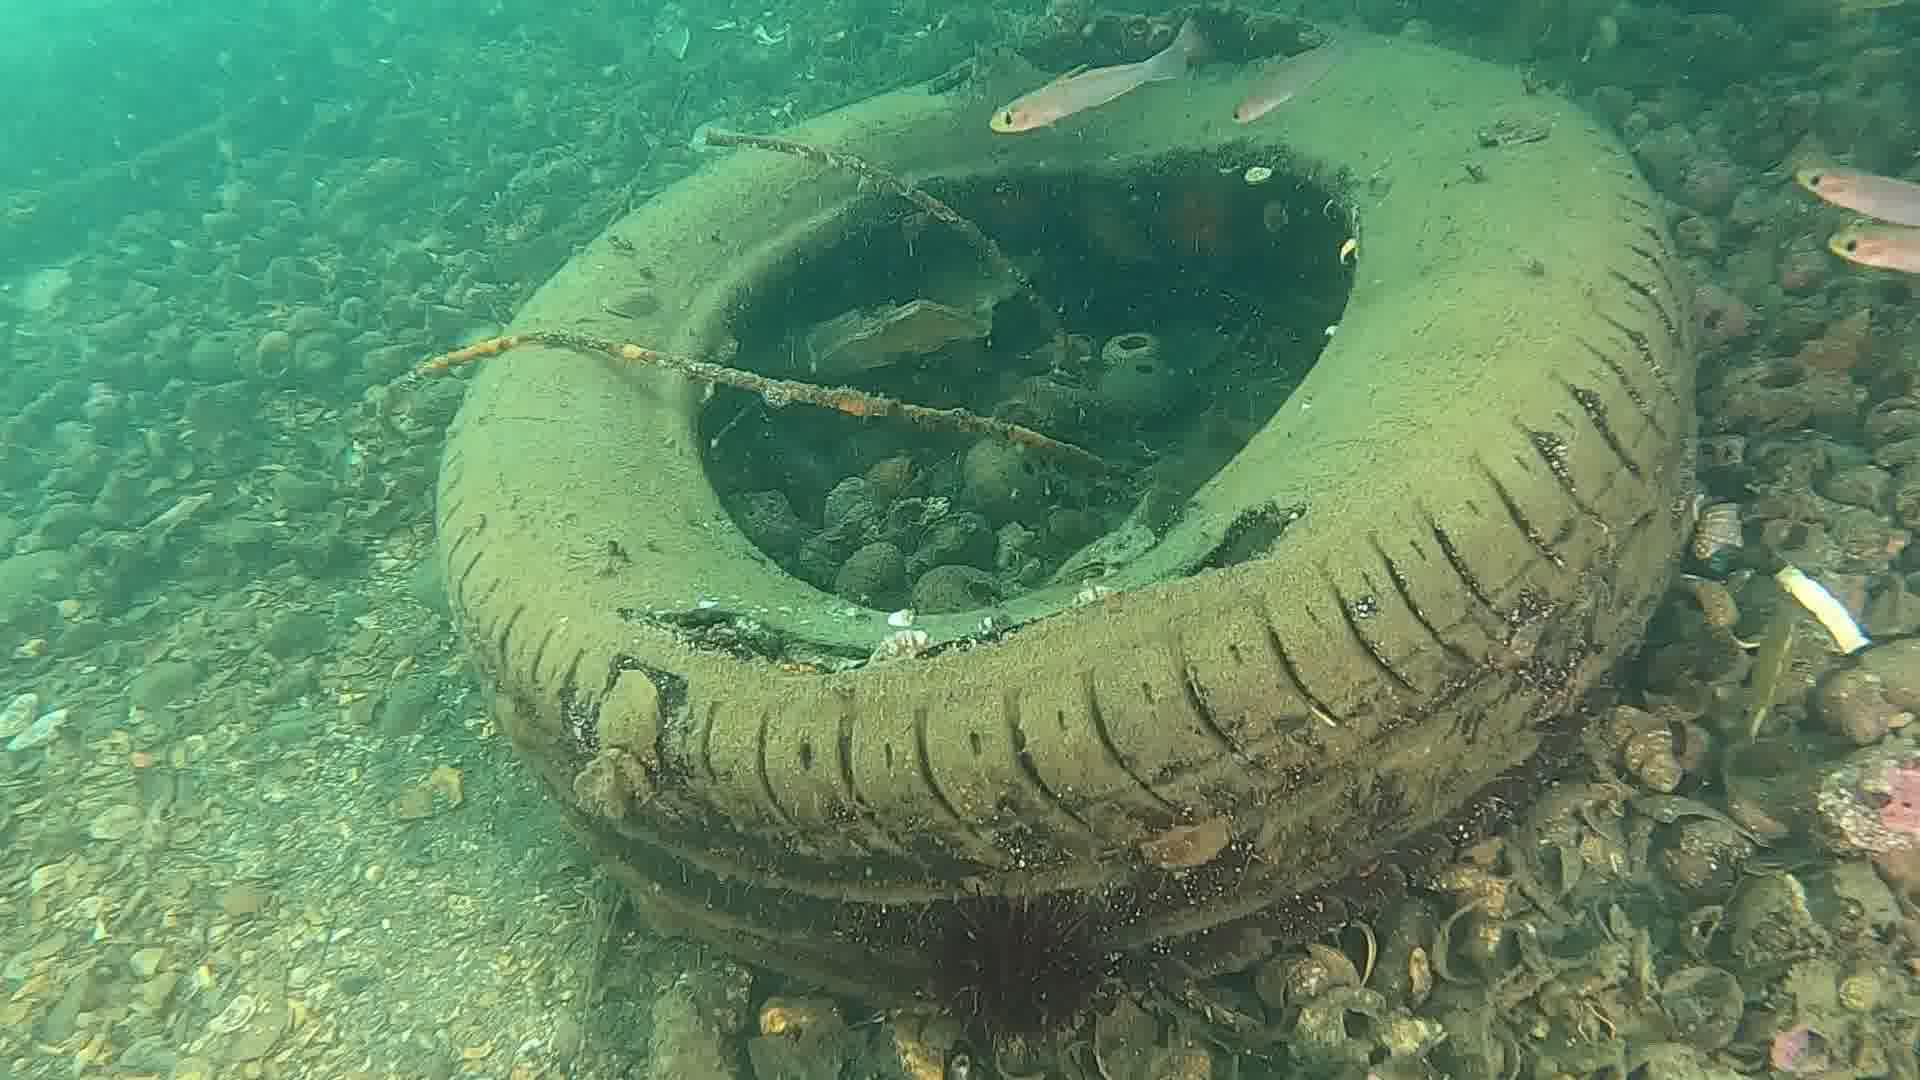tire: (425, 11, 1700, 1009)
